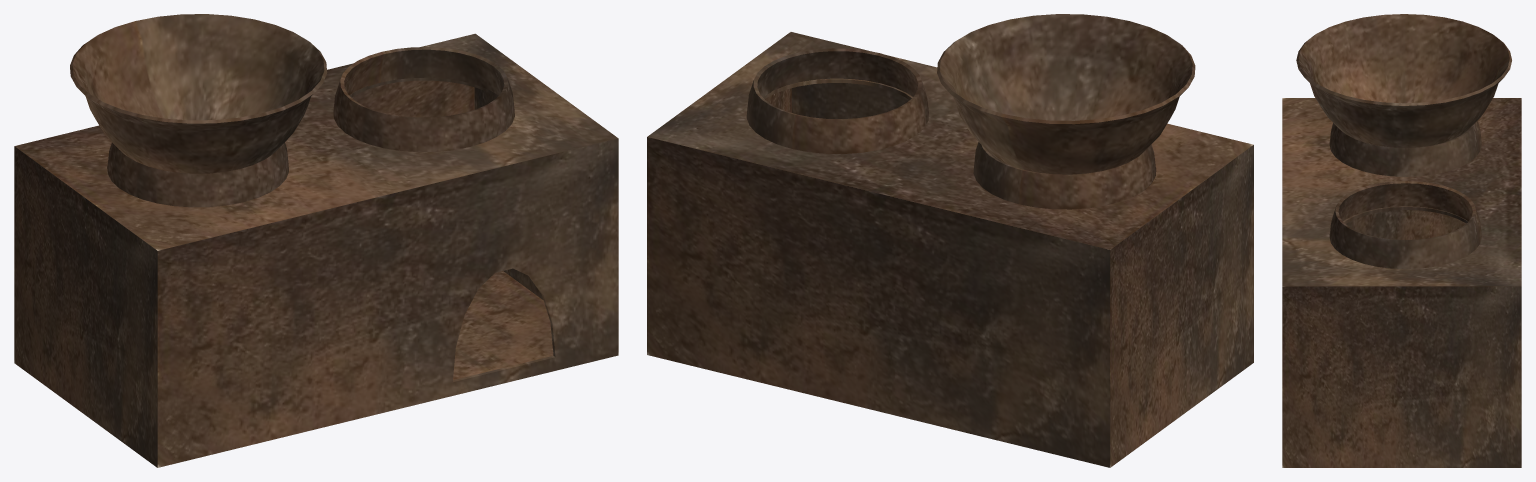
Rendered from 汉代灶台.FBX.
The picture shows the model from 3 angles, left to right: view 1: azimuth 30°, elevation 25°; view 2: azimuth 150°, elevation 25°; view 3: azimuth 270°, elevation 25°; orthographic projection. The views are drawn at different scales.
Visible parts, largest first — view 1: Box001, Sphere004, Sphere003, Sphere002; view 2: Box001, Sphere004, Sphere003, Sphere002; view 3: Box001, Sphere004, Sphere003, Sphere002.
Boxes of the visible parts, x1=… form: Box001: x1=14, y1=33, x2=618, y2=467; Sphere004: x1=70, y1=14, x2=327, y2=173; Sphere003: x1=333, y1=47, x2=514, y2=152; Sphere002: x1=107, y1=142, x2=288, y2=207; Box001: x1=647, y1=32, x2=1253, y2=467; Sphere004: x1=937, y1=14, x2=1195, y2=174; Sphere003: x1=746, y1=48, x2=928, y2=153; Sphere002: x1=973, y1=142, x2=1155, y2=209; Box001: x1=1282, y1=98, x2=1521, y2=467; Sphere004: x1=1296, y1=14, x2=1511, y2=147; Sphere003: x1=1329, y1=181, x2=1481, y2=269; Sphere002: x1=1329, y1=121, x2=1481, y2=176.
Size of the model in its own units: 39.46 by 26.14 by 21.21.
